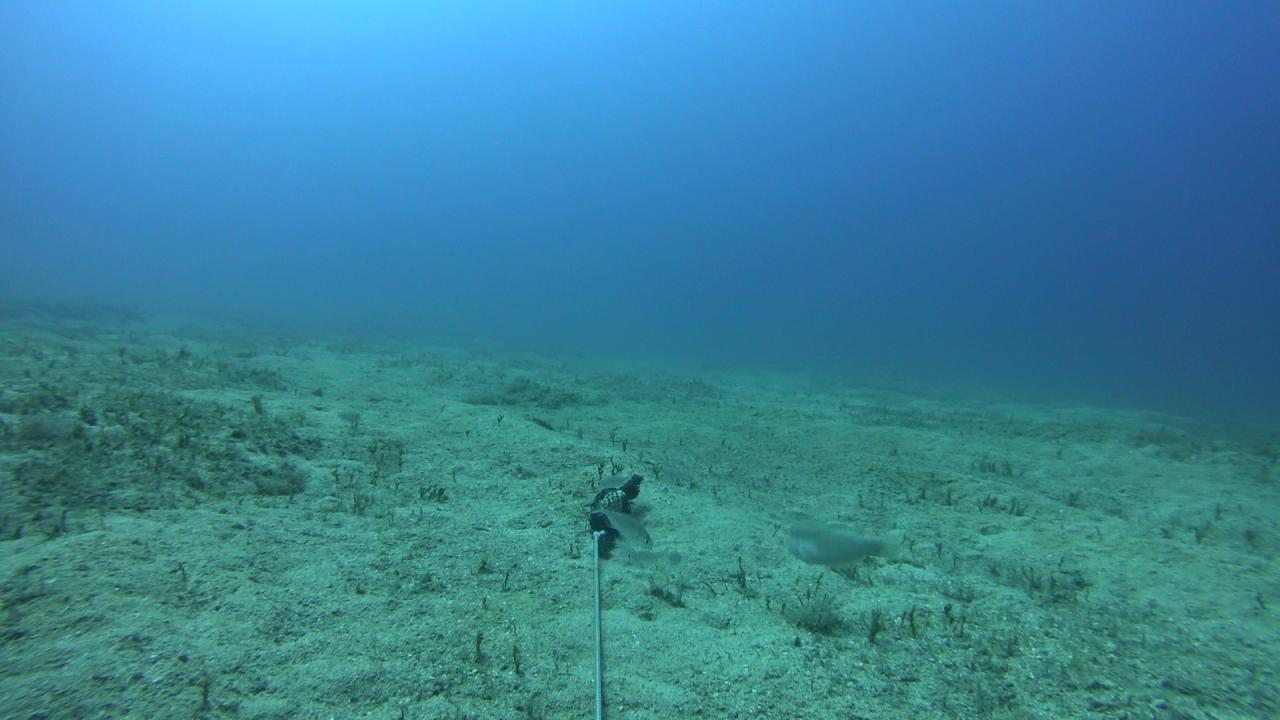pagellus: (590, 499, 654, 553), (594, 472, 637, 492)
raor: (778, 507, 908, 573)
